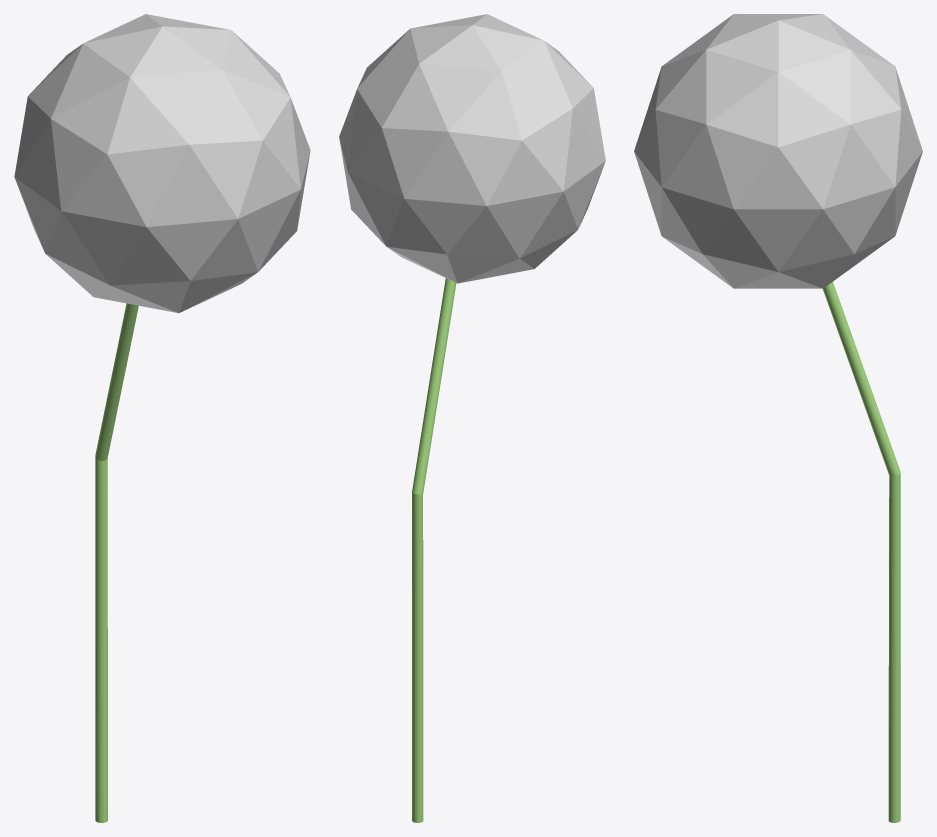
The model's file is dandelion_FINALIHOPE.fbx.
3 renders of one model, left to right at view 1: azimuth 30°, elevation 25°; view 2: azimuth 150°, elevation 25°; view 3: azimuth 270°, elevation 25°, orthographic. The views are drawn at different scales.
Parts seen in each view (by area): view 1: dand.complete; view 2: dand.complete; view 3: dand.complete.
Part boxes in pixels (<box>): dand.complete: <box>14,14,310,822</box>; dand.complete: <box>339,14,605,822</box>; dand.complete: <box>634,14,922,822</box>.
Size of what is drawn, in the model's own units: 5.71 by 18.33 by 6.
